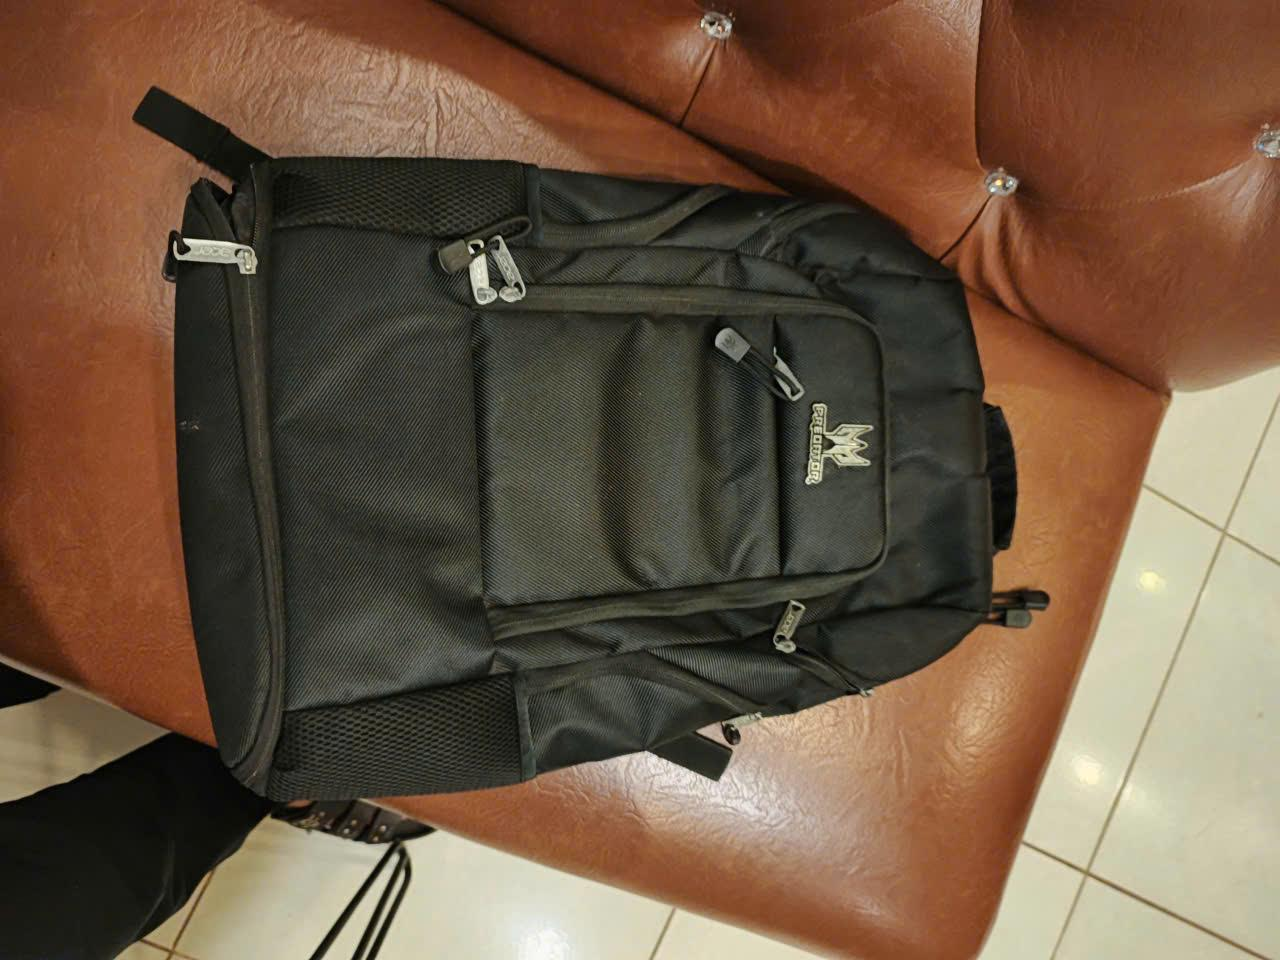Con lai: (168, 154, 1026, 810)
